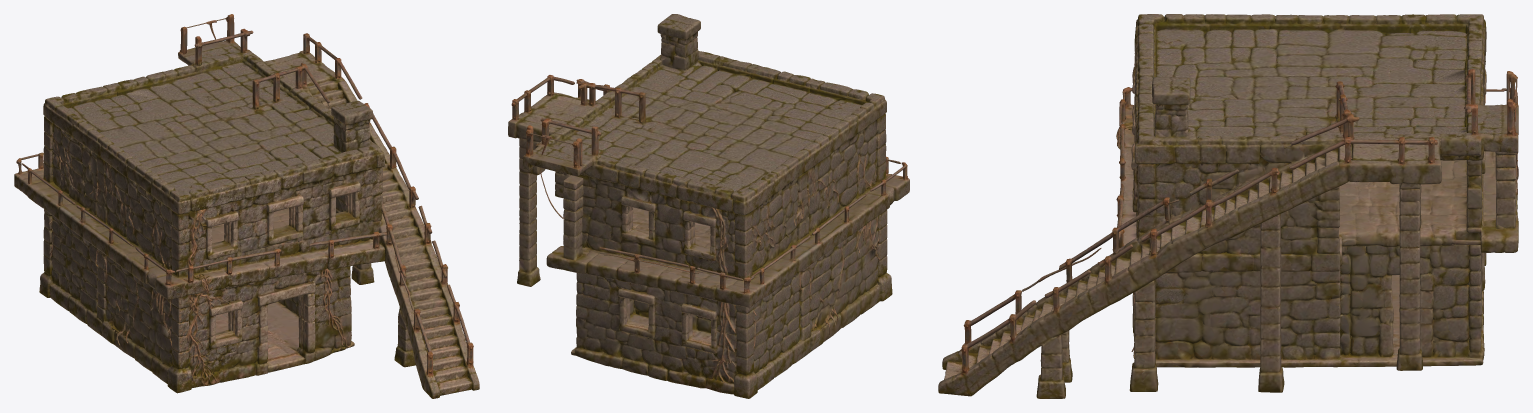
Rendered from stone-house.glb.
The picture shows the model from 3 angles, left to right: view 1: azimuth 30°, elevation 25°; view 2: azimuth 150°, elevation 25°; view 3: azimuth 270°, elevation 25°; orthographic projection. The views are drawn at different scales.
Size of the model in its own units: 1.28 by 1.07 by 1.9.
1 material, 1 textured.
